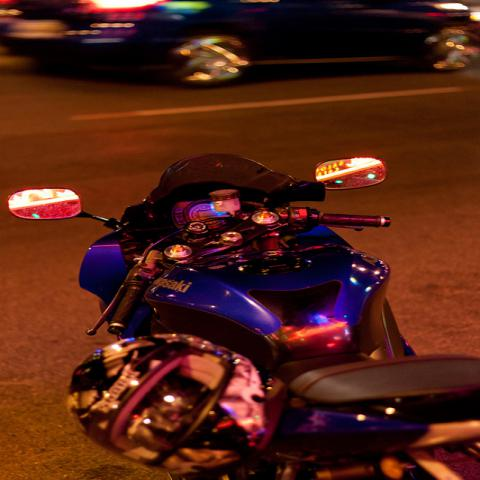car: (9, 2, 479, 84)
motorcycle: (4, 154, 479, 474)
